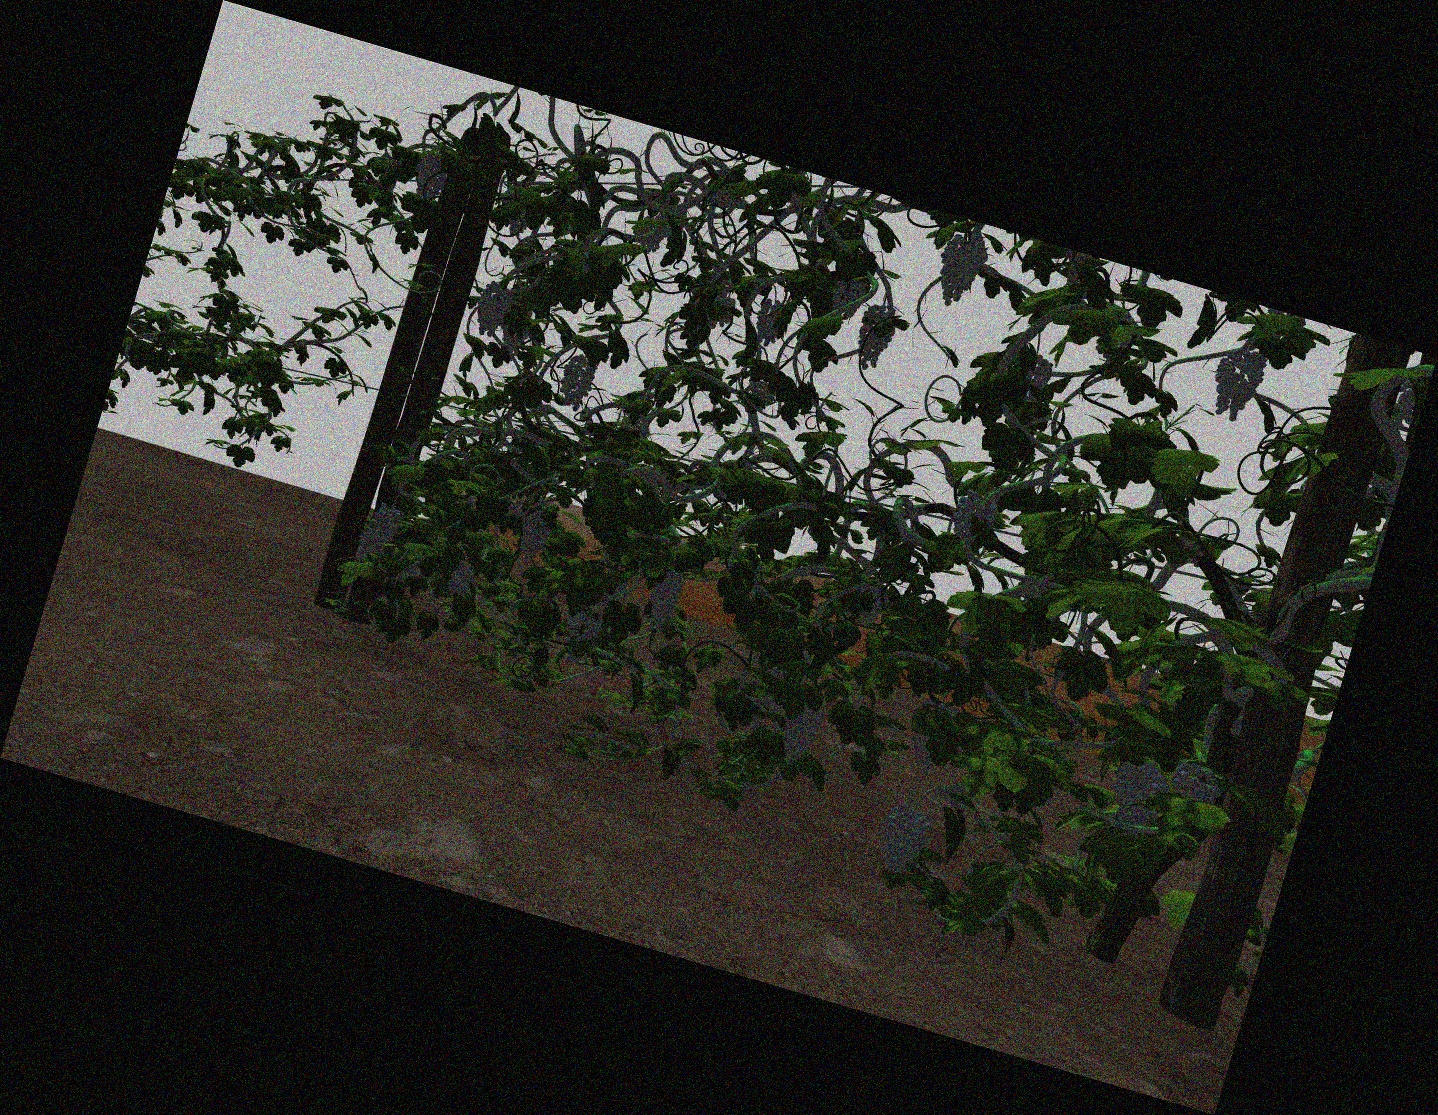grape: (1112, 764, 1165, 829), (938, 234, 983, 311), (1213, 350, 1259, 423), (880, 804, 927, 872), (780, 704, 821, 765), (856, 304, 892, 371), (647, 569, 682, 629), (952, 492, 994, 541), (411, 149, 449, 202), (1173, 765, 1223, 804), (559, 353, 596, 405), (476, 283, 507, 337), (519, 510, 550, 559), (753, 301, 786, 344), (830, 277, 864, 318), (638, 212, 669, 255), (567, 608, 603, 642), (372, 506, 397, 550), (448, 565, 474, 599), (356, 531, 371, 563)
